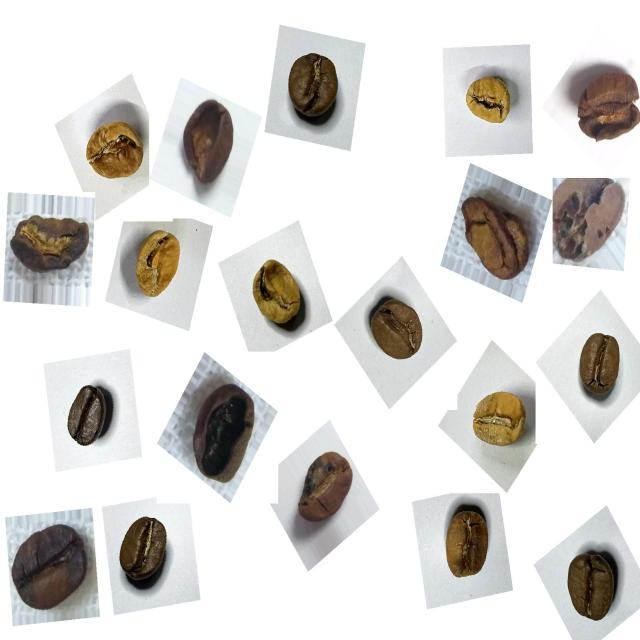bad: (179, 371, 266, 492), (5, 512, 97, 622), (454, 183, 538, 291), (542, 169, 632, 269), (173, 91, 248, 196), (4, 199, 93, 286), (565, 52, 640, 152), (290, 442, 364, 538)
dark: (55, 373, 122, 460)
light: (239, 248, 313, 339), (77, 107, 153, 194), (463, 380, 534, 460), (129, 226, 195, 312), (454, 67, 520, 140)
medium: (278, 44, 352, 136), (555, 544, 627, 635), (434, 498, 503, 592), (361, 288, 434, 374), (108, 508, 180, 595), (568, 325, 634, 408)
